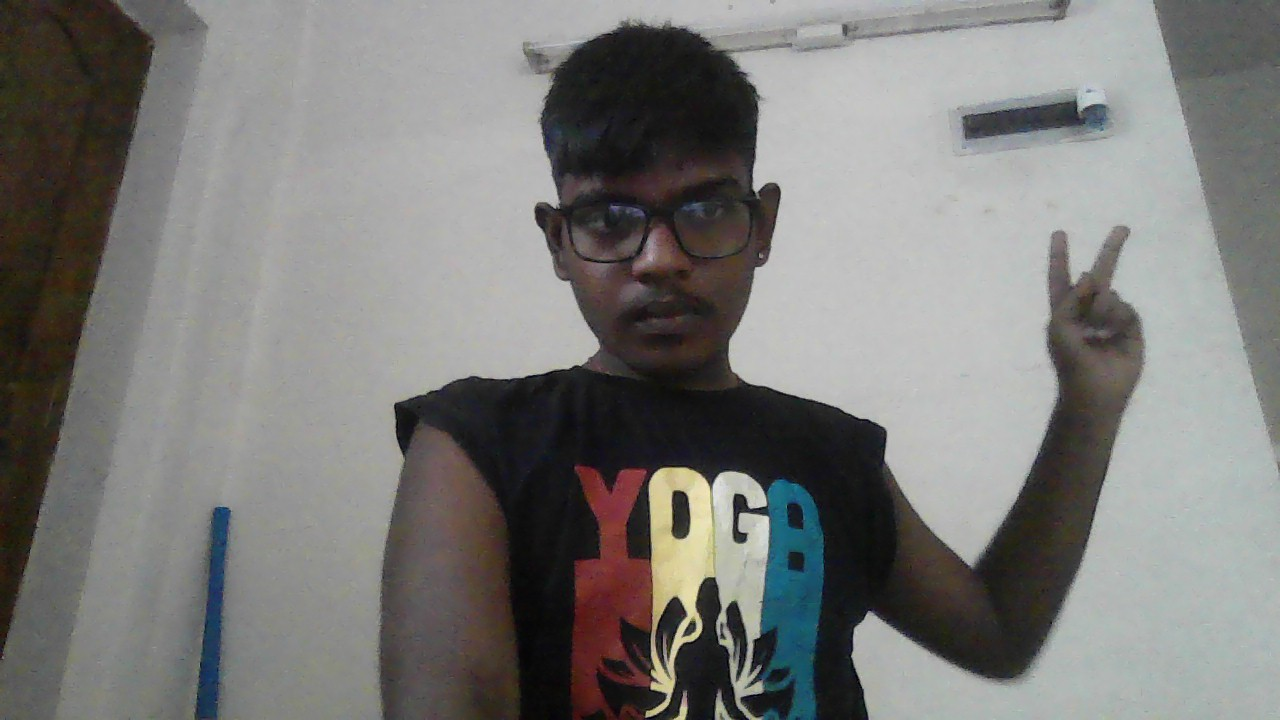K: (1047, 223, 1144, 415)
